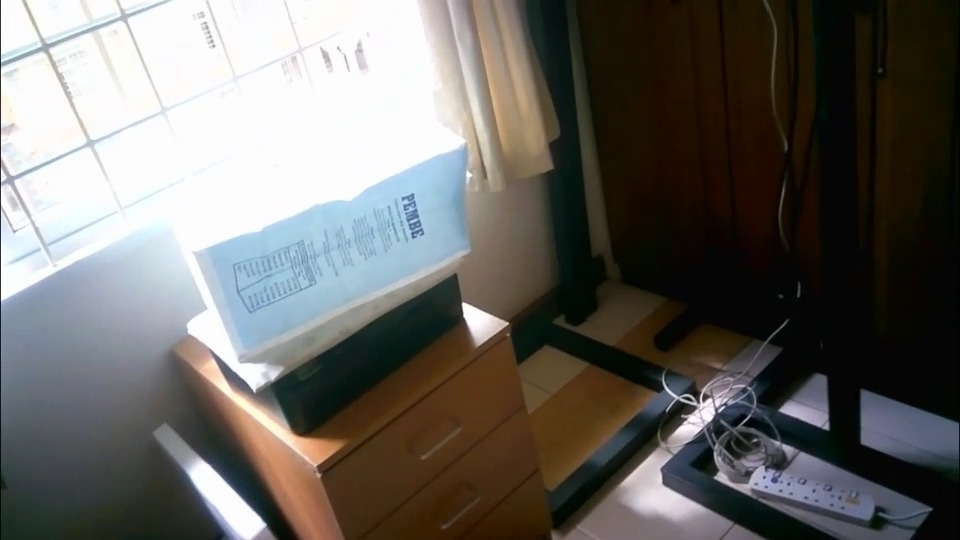wheat_flour_blue_label: (150, 129, 464, 358)
